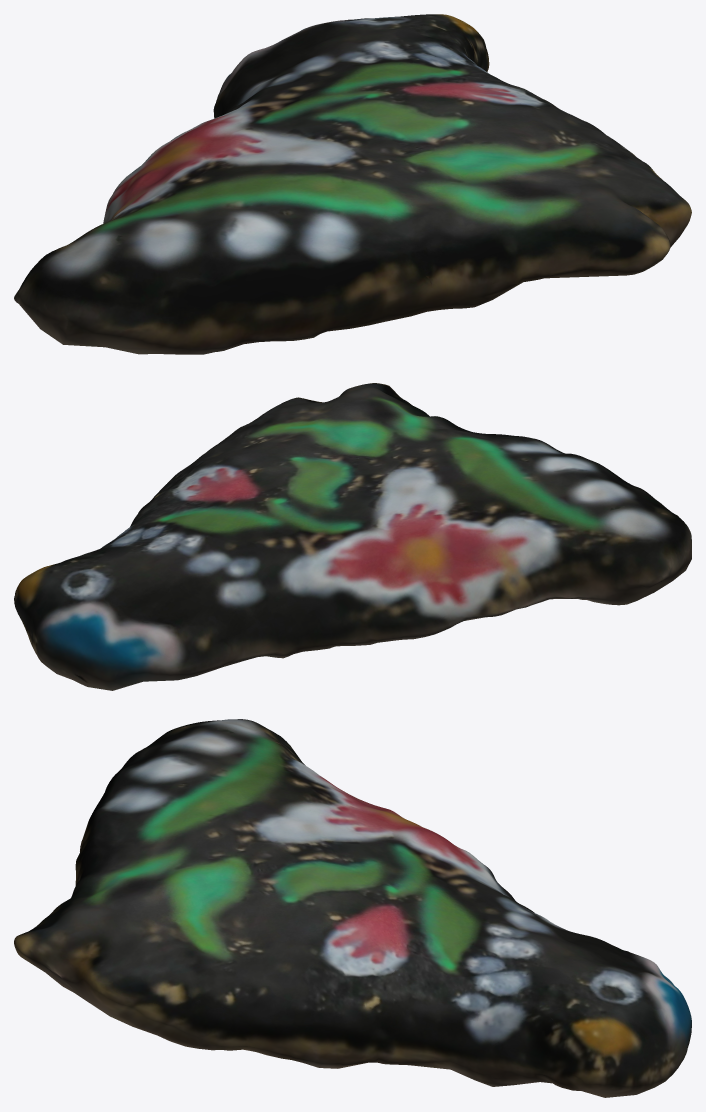
3 views of the same model, one above another, from view 1: azimuth 30°, elevation 25°; view 2: azimuth 150°, elevation 25°; view 3: azimuth 270°, elevation 25° (orthographic). The views are drawn at different scales.
Size of the model in its own units: 0.5357 by 0.1357 by 0.5298.
Materials: 1 (1 with a texture image).
